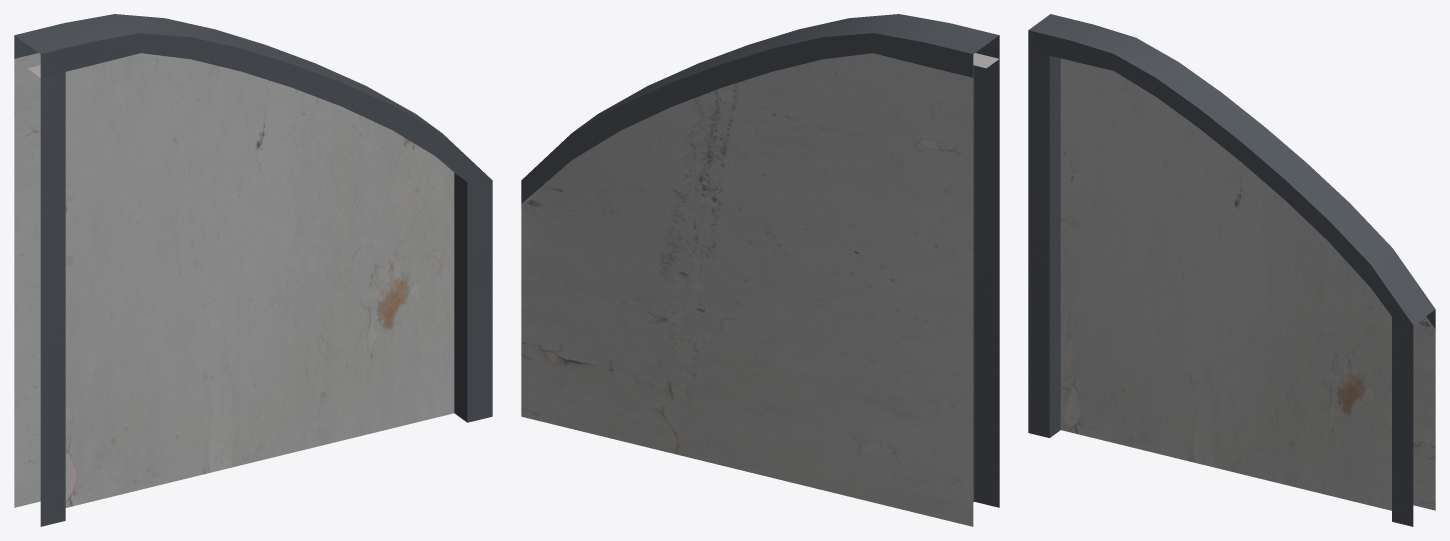
Rendered from WallCornerR.glb.
3 views of the same model, side by side, from view 1: azimuth 30°, elevation 25°; view 2: azimuth 150°, elevation 25°; view 3: azimuth 330°, elevation 25° (orthographic). The views are drawn at different scales.
Parts seen in each view (by area): view 1: WallCornerR; view 2: WallCornerR; view 3: WallCornerR.
Part boxes in pixels (x1=…): WallCornerR: x1=14, y1=14, x2=492, y2=526; WallCornerR: x1=521, y1=14, x2=999, y2=526; WallCornerR: x1=1028, y1=14, x2=1435, y2=526.
Size of the model in its own units: 8 by 8 by 0.7999.
Materials: 2 (2 with a texture image).
